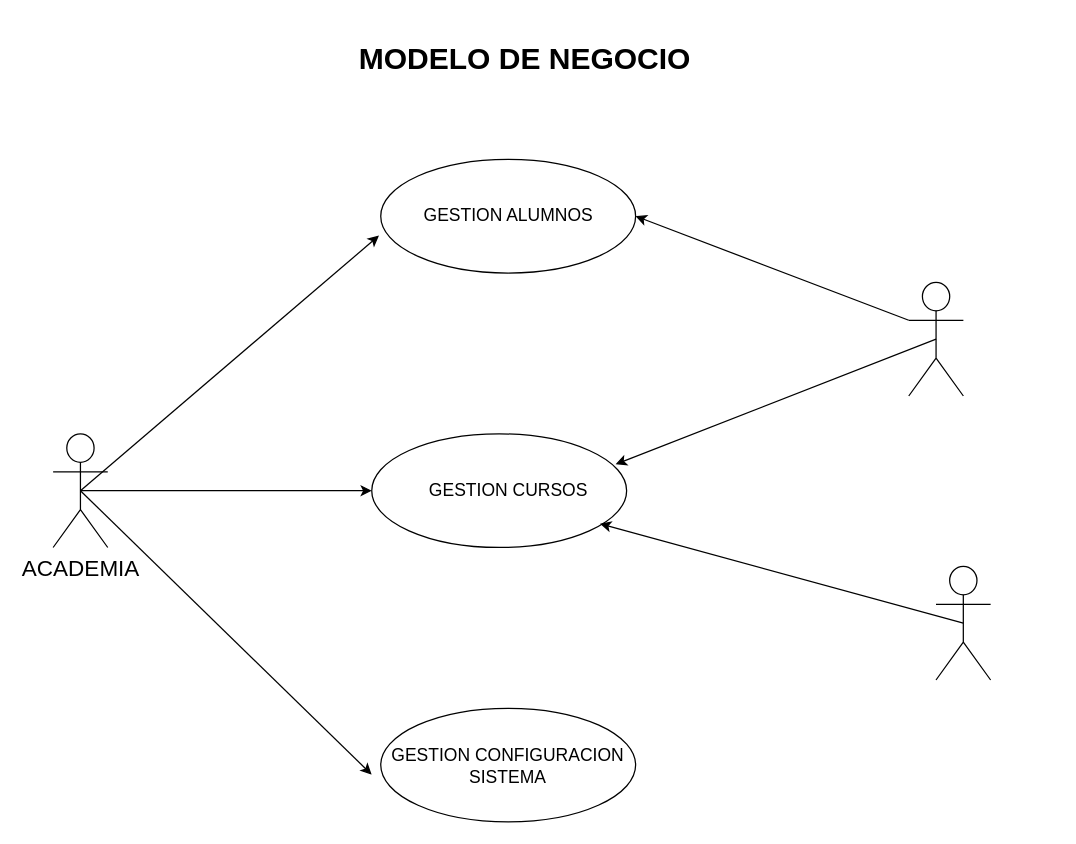
The diagram is 1076 pixels wide and 844 high, and some of its shapes have lost their labels. The centre of each missing label's shape, as x and y in pixels:
"ALUMNO" belongs at [935,338].
"DEPARTAMENTO" belongs at [963,622].
